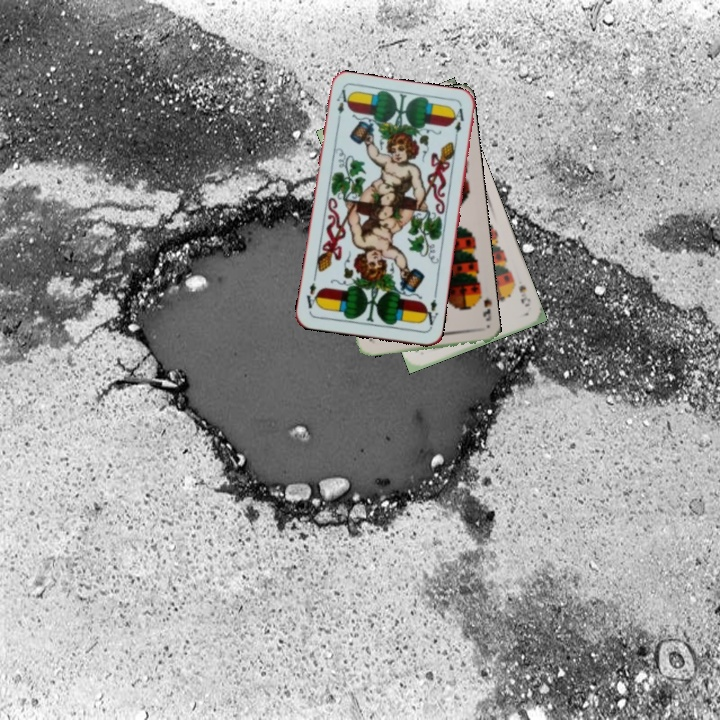EA: (419, 290, 440, 331), (332, 86, 352, 126)
S9: (507, 273, 533, 310), (472, 287, 494, 323)
